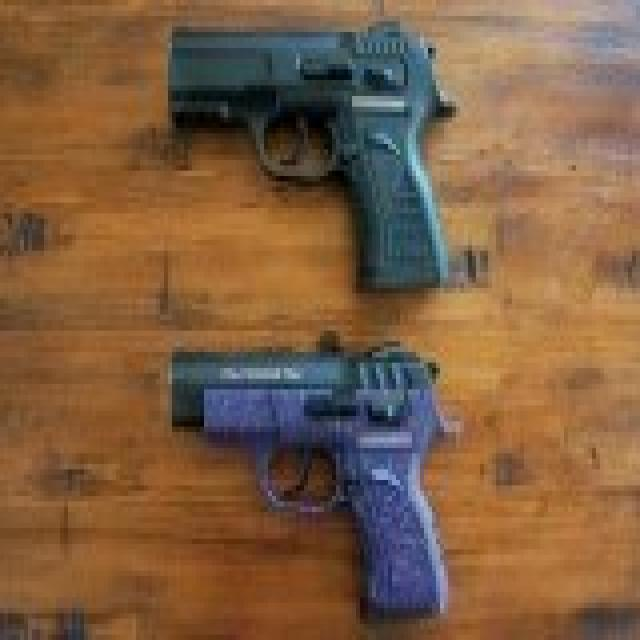Gun: (163, 323, 466, 634), (165, 9, 472, 303)
